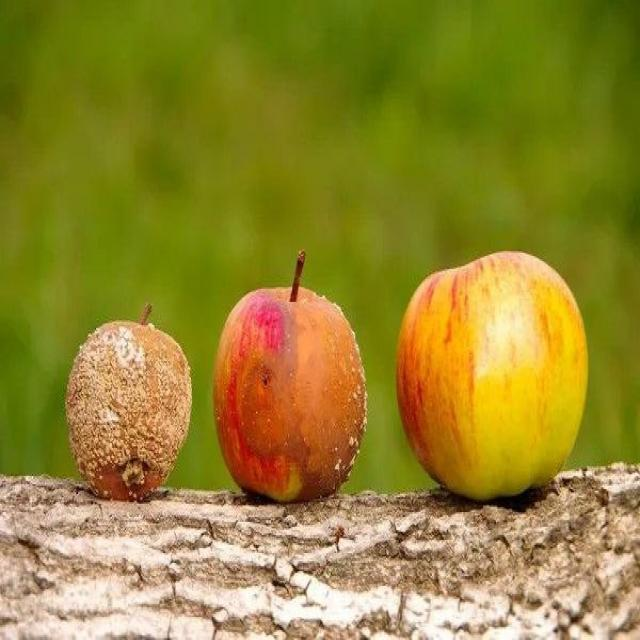fresh_apple: (396, 256, 586, 504)
rotten_apple: (213, 284, 366, 500), (68, 321, 192, 496)
